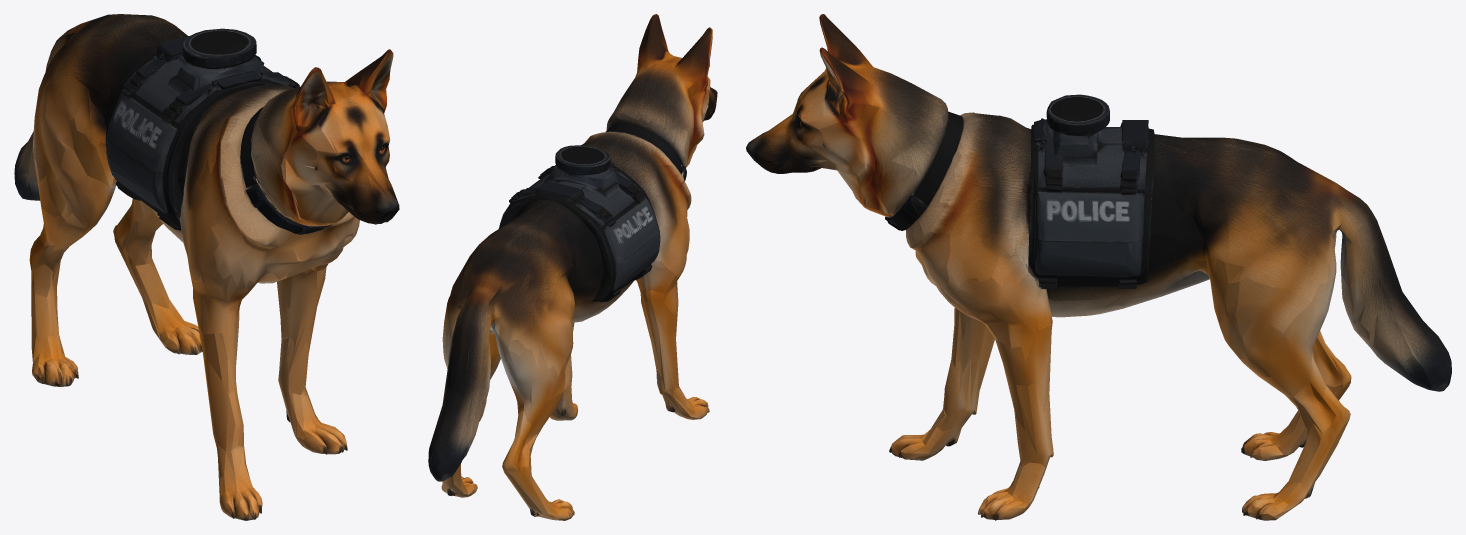
The picture shows the model from 3 angles, left to right: view 1: azimuth 30°, elevation 25°; view 2: azimuth 150°, elevation 25°; view 3: azimuth 270°, elevation 25°; orthographic projection. The views are drawn at different scales.
Bounding box in the file's own units: 0.505 × 1.34 × 1.9.
1 material, 1 textured.
